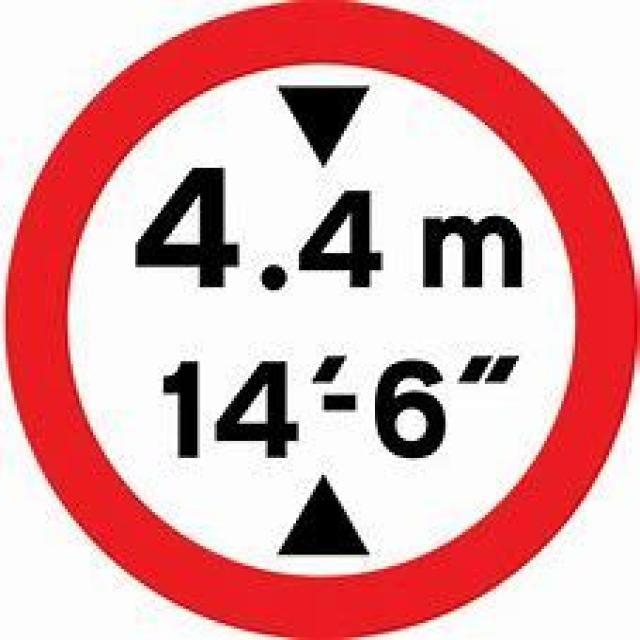height_limit: (3, 0, 634, 637)
